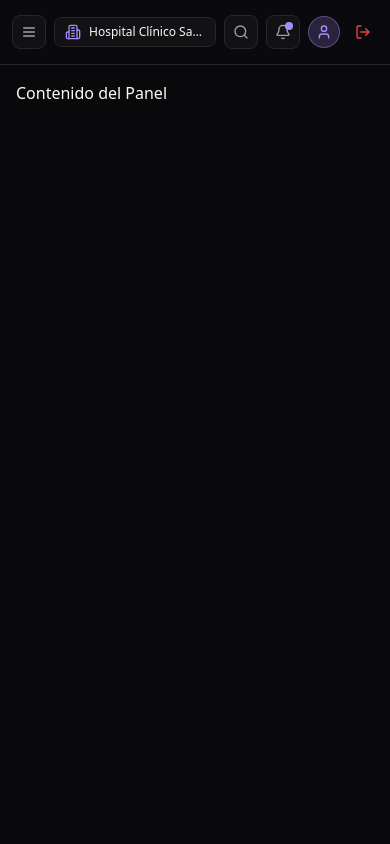
Test case: ClinicalLayout Component › toggles mobile navigation drawer and mobile search bar cleanly
Click the button named "Abrir menú de navegación" at (29, 32), box [12, 15, 46, 49]
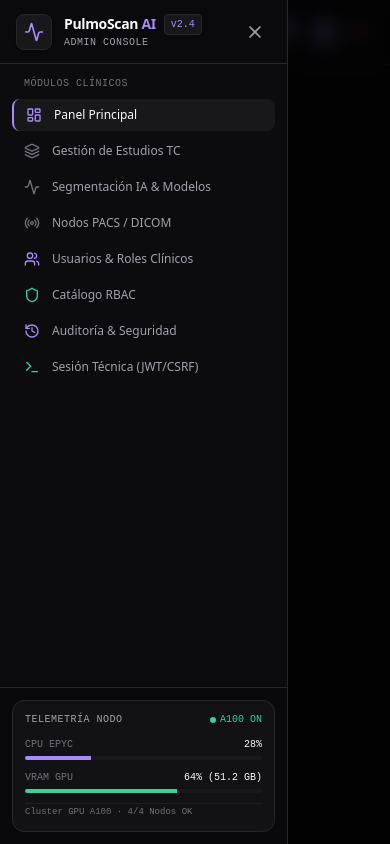
Check: the button named "Abrir menú de navegación" is expanded, box [12, 15, 46, 49]
Click the button named "Cerrar menú de navegación" at (255, 32), box [239, 16, 271, 48]
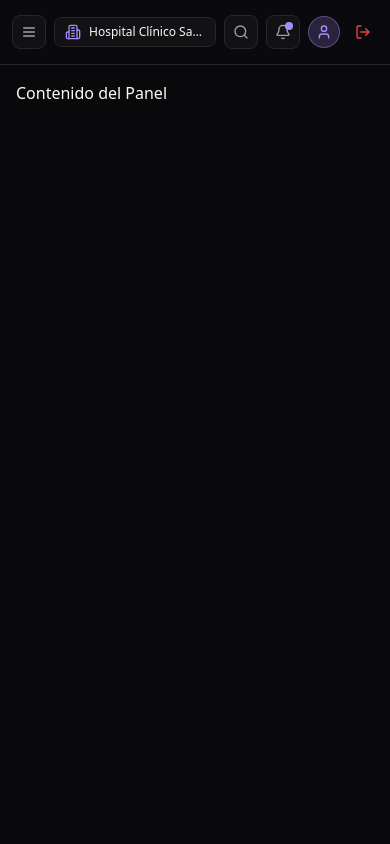
Check: the button named "Abrir menú de navegación" is collapsed
Note: Reopen and close via Escape key
Click the button named "Abrir menú de navegación" at (29, 32), box [12, 15, 46, 49]
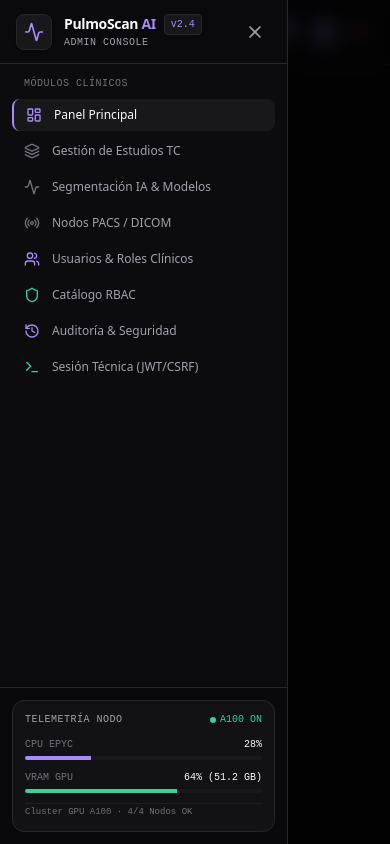
Check: the element named "Navegación clínica" has class "translate-x-0"
Press Escape
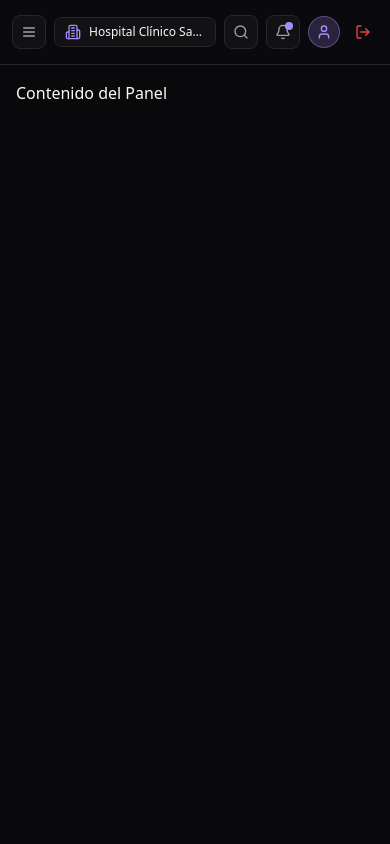
Click the button named "Buscar" at (241, 32), box [224, 15, 258, 49]
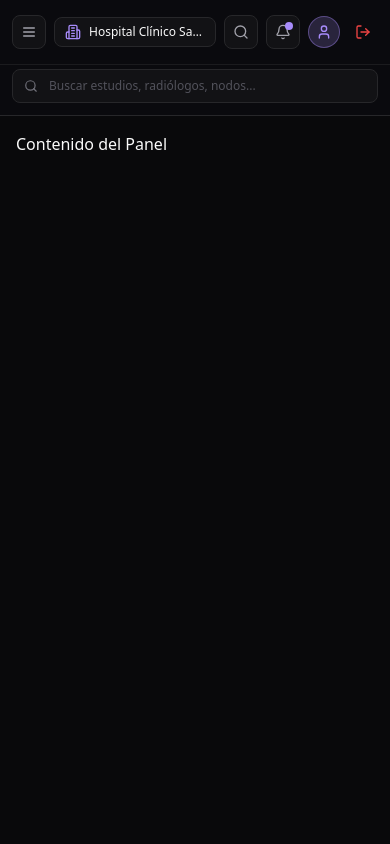
Check: the number of fields with placeholder "Buscar estudios, radiólogos, nodos" is 2
